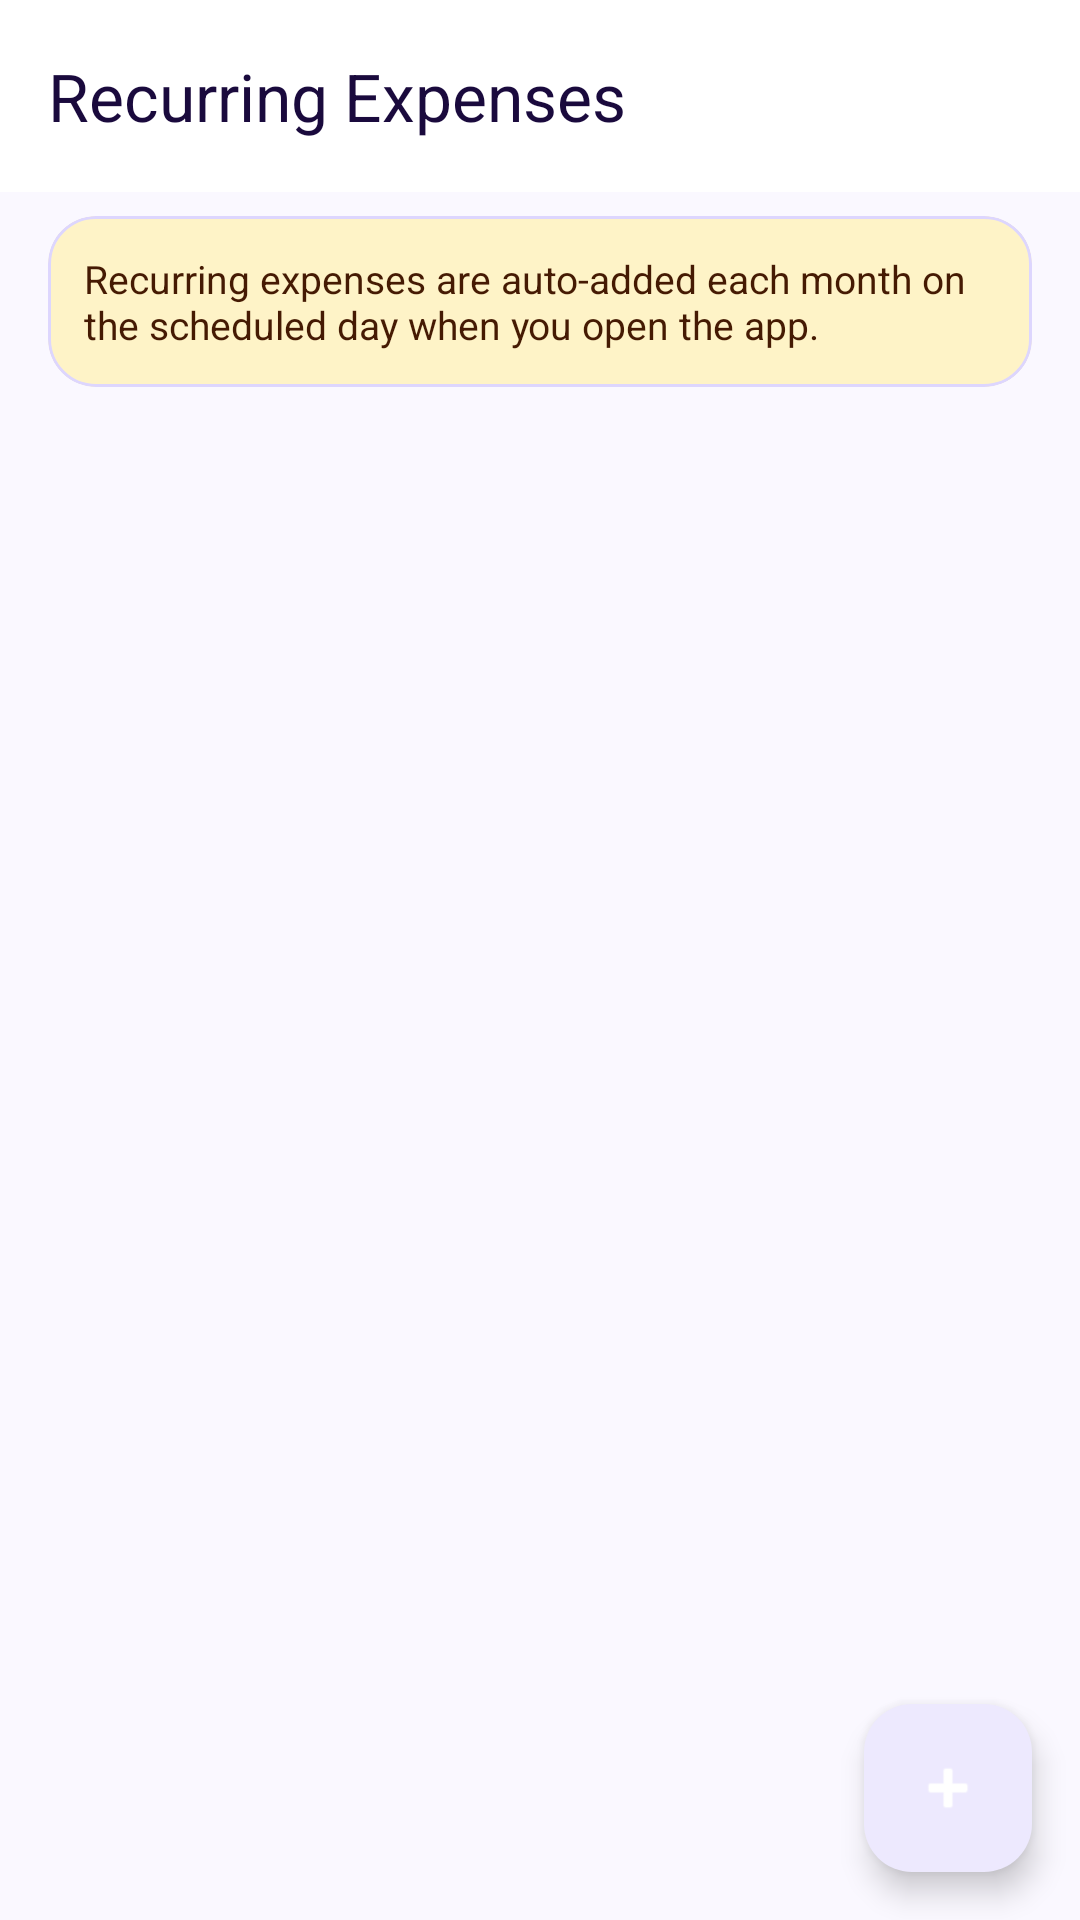

Screen size 1080px x 1920px. Icon name, then its box in pixels as (x1, y1, x2, y2):
Add Recurring: (864, 1704, 1032, 1872)
